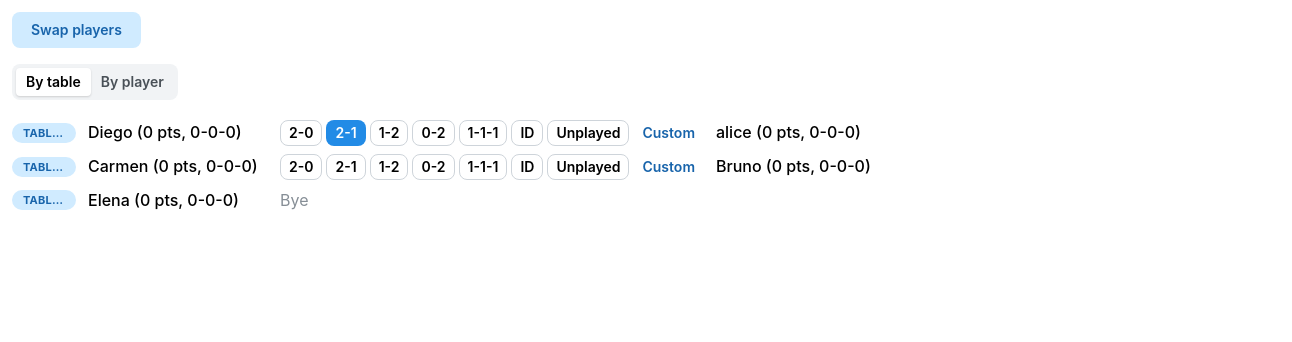
Test: RoundPanel by player › lists every player in name order with table, opponent and result from their side
Click the radio button labelled "By player": (132, 82) [101, 73, 164, 90]
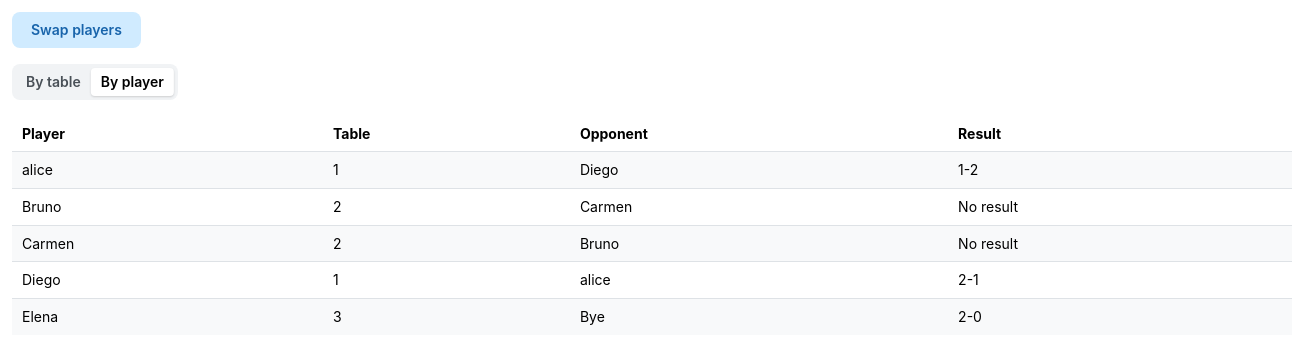
Check: the text "Table 1" is gone
